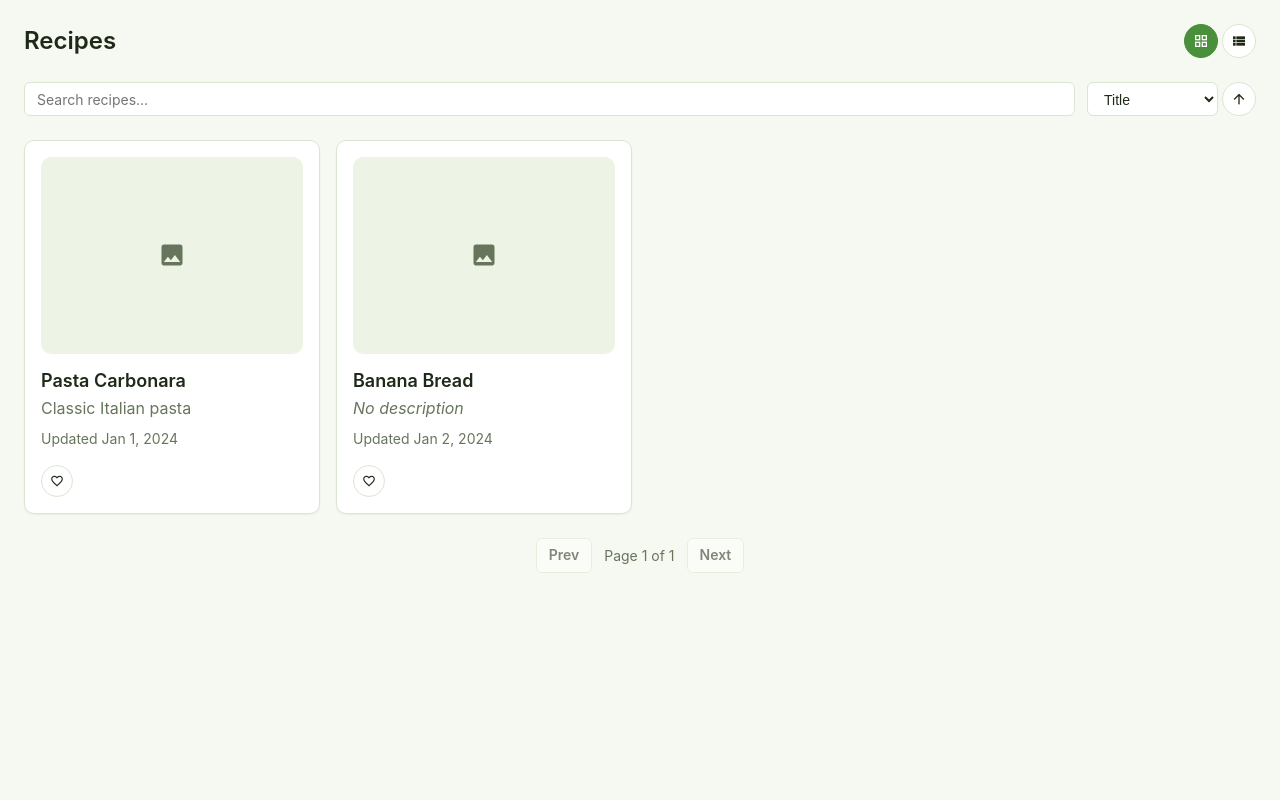
Test: RecipeListComponent › favorites and recently-viewed strips › updates the Favorites strip with no manual reload when a card favorite button is toggled
Click the button named "Add to favorites" below "Updated Jan 1, 2024" at coordinates (57, 481), box [41,465,73,497]
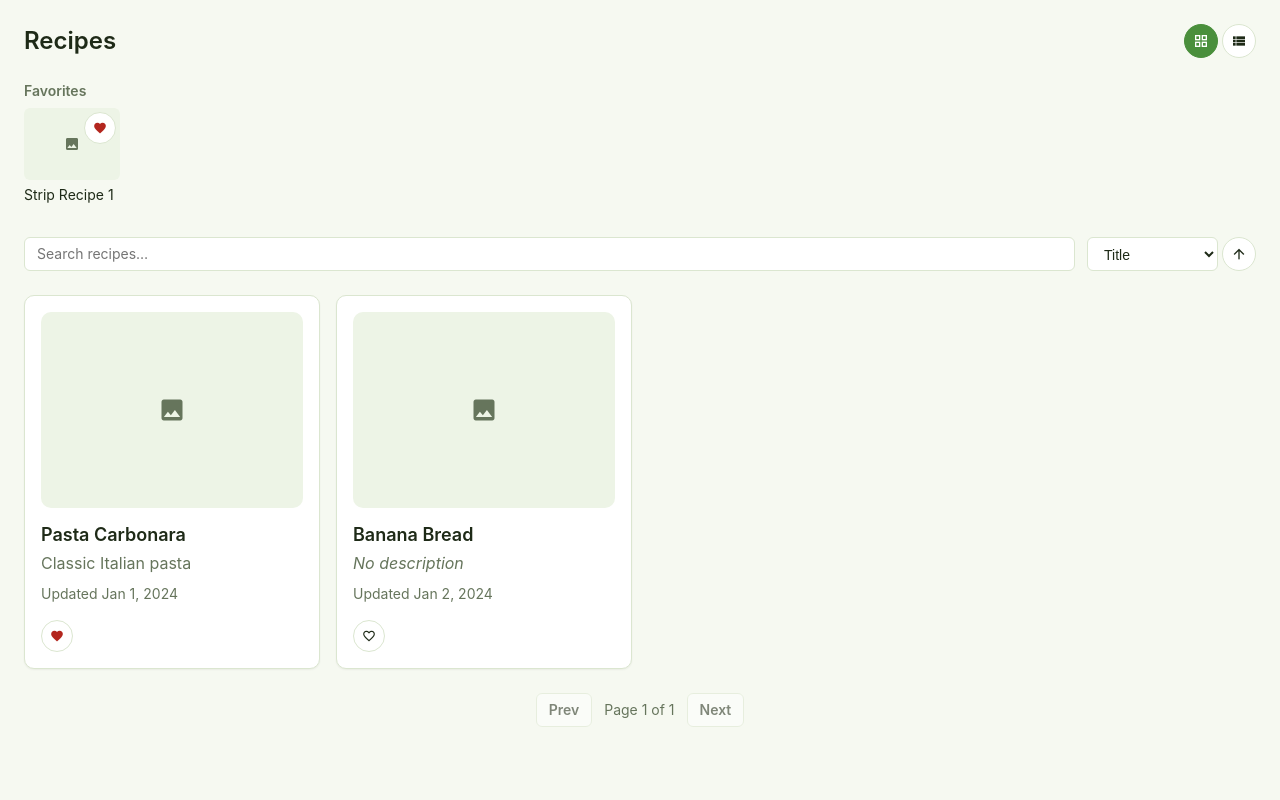
Check: the element named "Favorites" is shown, box [24,82,120,202]
Click the button named "Remove from favorites" below "Favorites" at coordinates (100, 128), box [84,112,116,144]
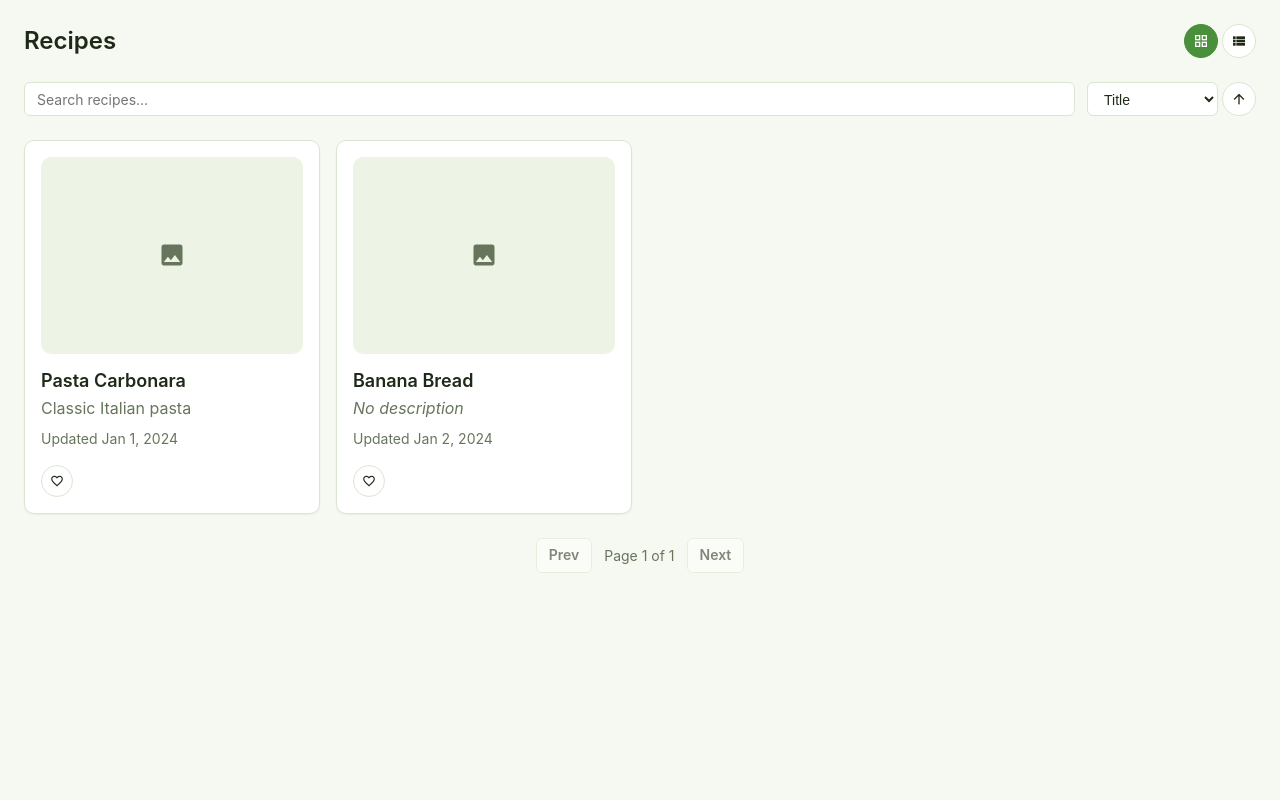
Check: the button named "Favorites" is gone
